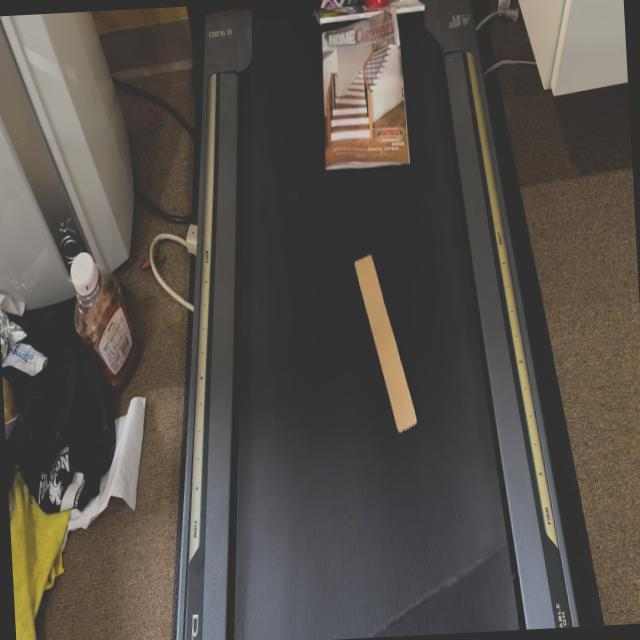Recycle: (319, 24, 410, 170), (353, 253, 419, 440), (312, 0, 428, 22)
